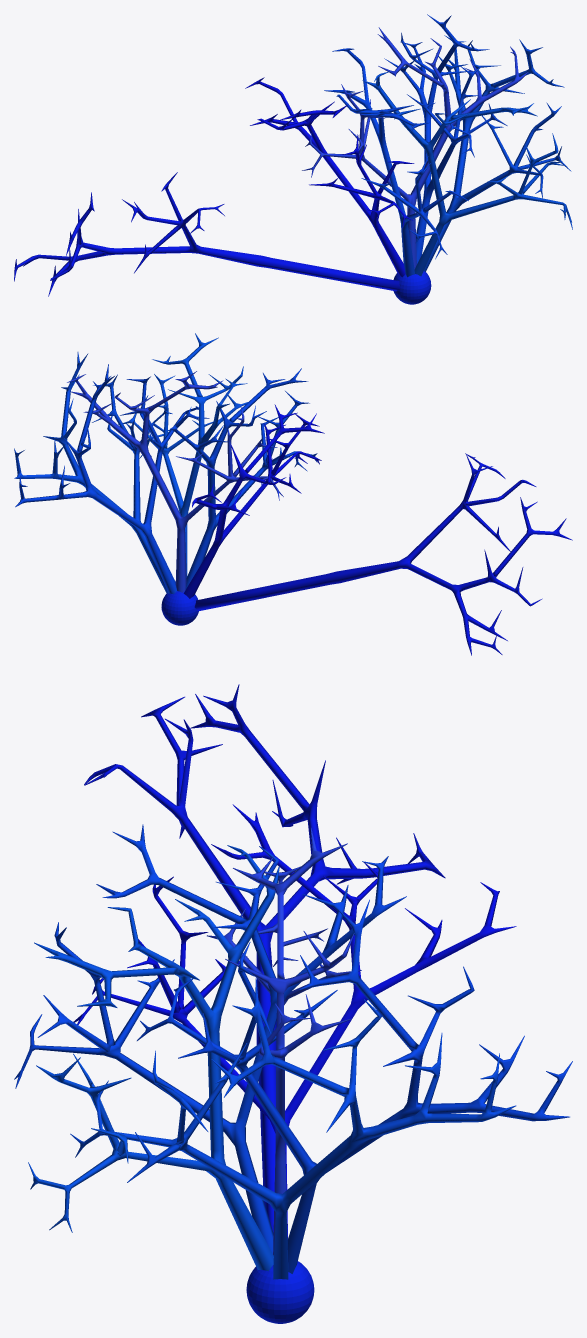
The model's file is asset.glb.
The picture shows the model from 3 angles, top to bottom: view 1: azimuth 30°, elevation 25°; view 2: azimuth 150°, elevation 25°; view 3: azimuth 270°, elevation 25°; orthographic projection. The views are drawn at different scales.
Visible parts, largest first — view 1: Plane.004, Plane.002, Plane.001, Plane.006, Plane, Plane.005, Plane.003, Sphere; view 2: Plane.004, Plane, Plane.003, Plane.006, Plane.005, Plane.001, Plane.002, Sphere; view 3: Plane.001, Plane.002, Plane.004, Plane.003, Plane.005, Plane.006, Plane, Sphere.
Part boxes in pixels (left/top/right/bottom): Plane.004: left=14, top=172, right=400, bottom=296; Plane.002: left=362, top=71, right=572, bottom=276; Plane.001: left=424, top=35, right=571, bottom=271; Plane.006: left=245, top=77, right=414, bottom=277; Plane: left=302, top=27, right=528, bottom=269; Plane.005: left=324, top=48, right=468, bottom=277; Plane.003: left=384, top=14, right=507, bottom=263; Sphere: left=393, top=271, right=431, bottom=304; Plane.004: left=194, top=453, right=572, bottom=655; Plane: left=67, top=371, right=283, bottom=592; Plane.003: left=15, top=364, right=209, bottom=594; Plane.006: left=183, top=404, right=324, bottom=598; Plane.005: left=170, top=368, right=317, bottom=589; Plane.001: left=14, top=352, right=172, bottom=593; Plane.002: left=118, top=333, right=247, bottom=577; Sphere: left=161, top=591, right=198, bottom=625; Plane.001: left=70, top=978, right=516, bottom=1279; Plane.002: left=28, top=845, right=279, bottom=1271; Plane.004: left=84, top=684, right=445, bottom=1232; Plane.003: left=137, top=899, right=572, bottom=1273; Plane.005: left=14, top=824, right=406, bottom=1253; Plane.006: left=73, top=804, right=516, bottom=1239; Plane: left=207, top=828, right=361, bottom=1255; Sphere: left=246, top=1261, right=314, bottom=1323.
Size of the model in its own units: 6.05 by 3.05 by 3.28.
